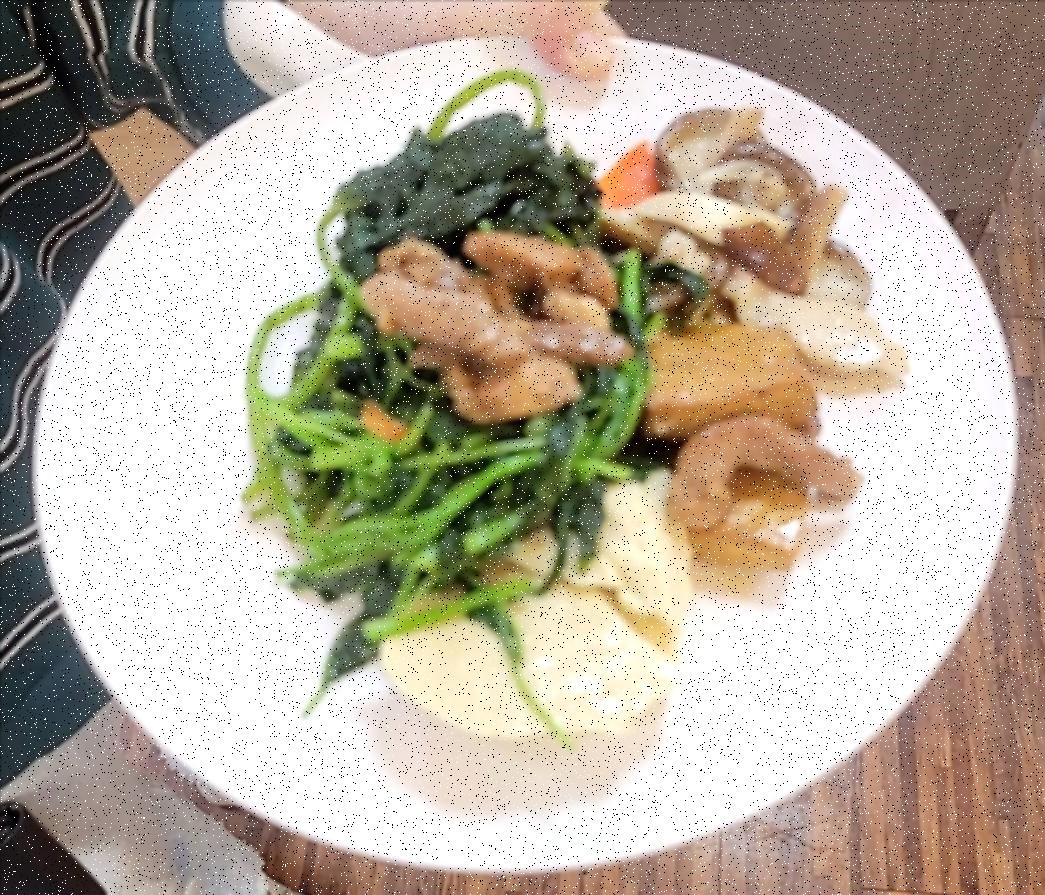plate: (24, 26, 1023, 877)
shacha pork: (373, 222, 854, 554)
side dish: (264, 107, 637, 660), (368, 470, 716, 754), (580, 92, 916, 376)
